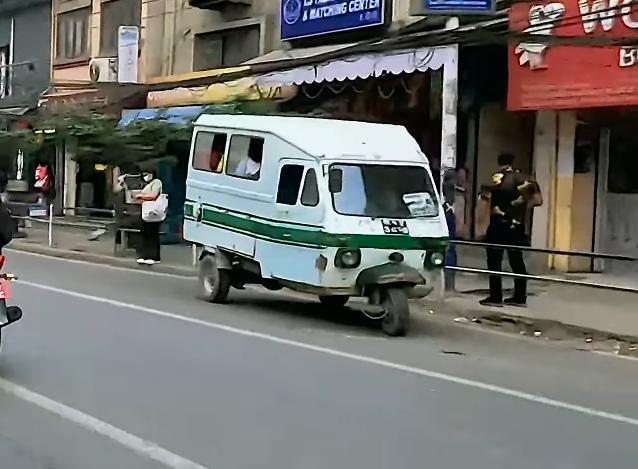tempo: (186, 106, 453, 341)
